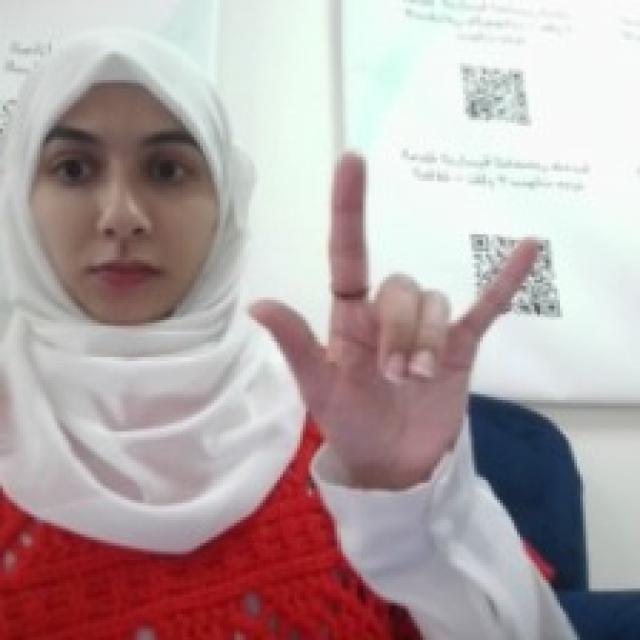love: (240, 146, 546, 466)
